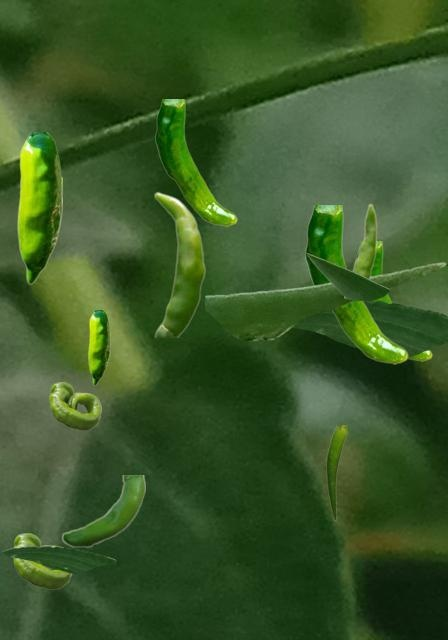green_chili: (305, 205, 407, 363), (155, 99, 236, 225), (355, 241, 431, 360), (153, 191, 205, 336), (17, 132, 61, 283), (61, 475, 144, 547), (13, 533, 72, 588), (344, 203, 376, 297), (49, 382, 100, 429), (326, 425, 346, 519), (88, 310, 109, 384)
